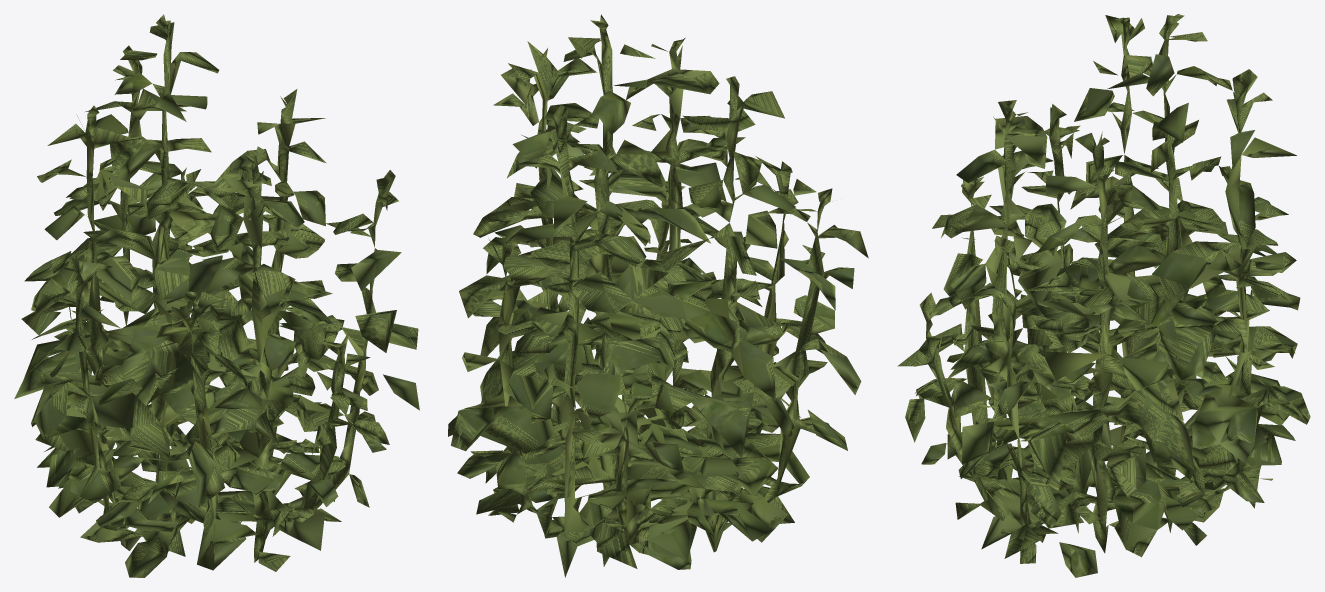
The model's file is ortigas.glb.
3 views of the same model, side by side, from view 1: azimuth 30°, elevation 25°; view 2: azimuth 150°, elevation 25°; view 3: azimuth 270°, elevation 25° (orthographic). The views are drawn at different scales.
Visible parts, largest first — view 1: cerca, medio, lejos; view 2: cerca, medio, lejos; view 3: cerca, medio, lejos.
Boxes of the visible parts, left/top/right/bottom form: cerca: left=14, top=14, right=418, bottom=577; medio: left=15, top=23, right=419, bottom=576; lejos: left=49, top=114, right=343, bottom=556; cerca: left=448, top=14, right=868, bottom=577; medio: left=448, top=39, right=861, bottom=564; lejos: left=486, top=75, right=795, bottom=542; cerca: left=897, top=14, right=1310, bottom=577; medio: left=916, top=23, right=1300, bottom=564; lejos: left=982, top=121, right=1274, bottom=548.
Size of the model in its own units: 0.5813 by 0.7648 by 0.5499.
2 materials, 1 textured.
